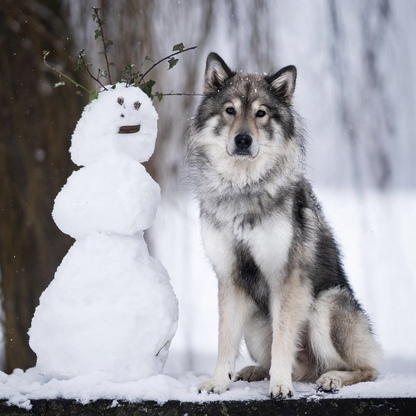husky: (182, 47, 390, 404)
